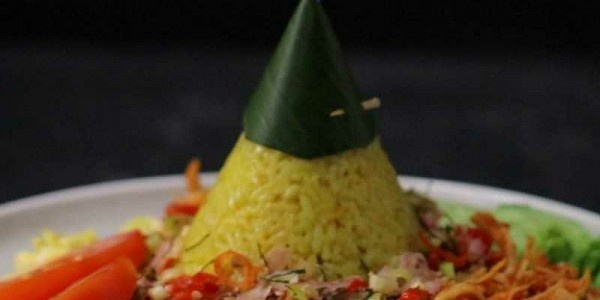tumpeng: (210, 3, 425, 269)
